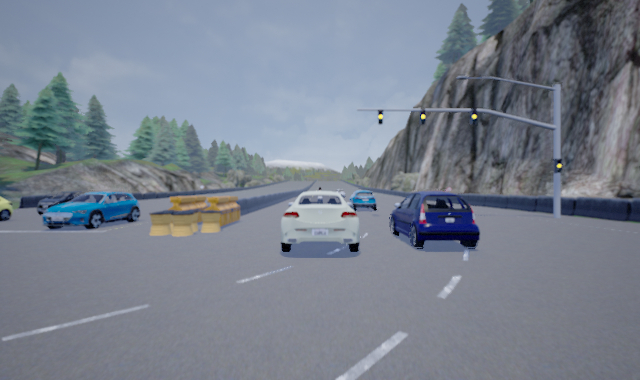traffic_light: (553, 157, 563, 174), (470, 106, 478, 126), (420, 107, 428, 125), (378, 109, 384, 127)
vehicle: (389, 190, 480, 249), (279, 191, 359, 253), (42, 191, 139, 230), (35, 191, 89, 214), (347, 189, 378, 212), (1, 193, 13, 220)
